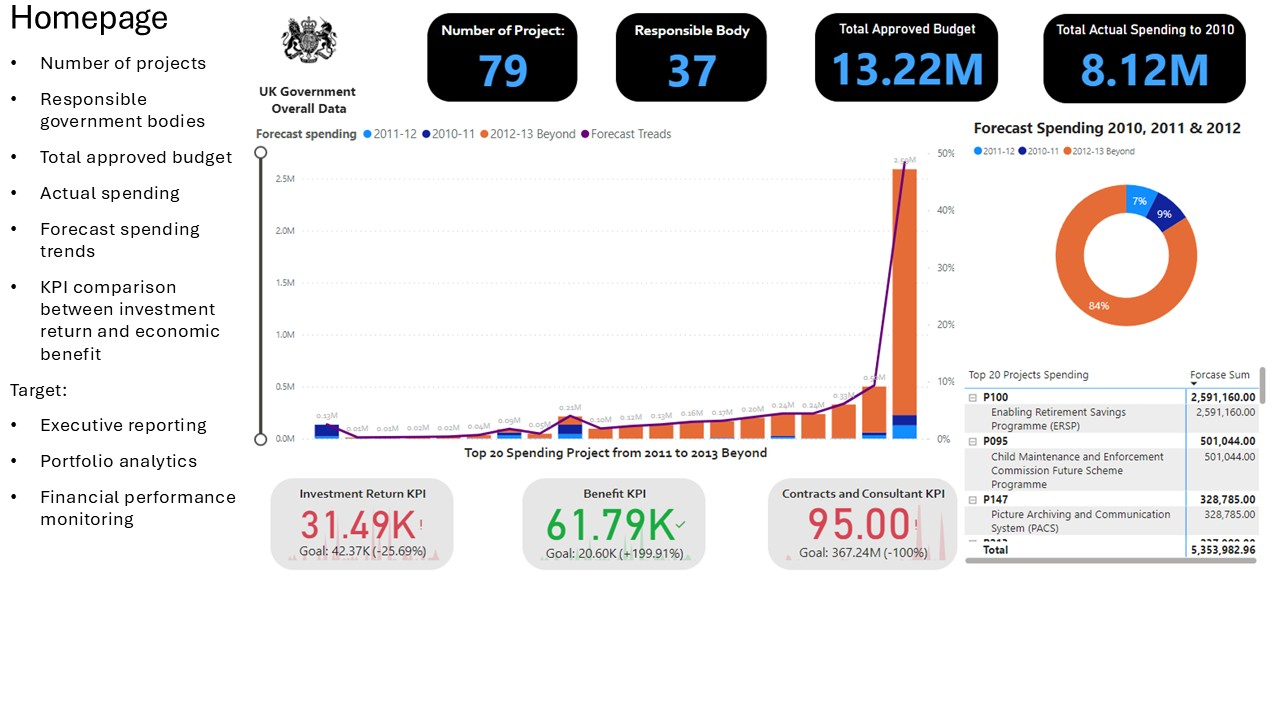

The page's visual inventory and layout, read from the dashboard file:
{"tool":"powerbi","page":{"name":"HomePage","canvas":[1280,720],"ordinal":0},"visuals":[{"type":"image","box":[32,0,80,96],"z":0,"group":"g1"},{"type":"card","title":"Number of Project:","fields":{"Values":["CountNonNull(Project Register.Project ID)"]},"box":[217.8,14.4,187.8,112.2],"z":0},{"type":"card","title":"Responsible Body","fields":{"Values":["Count(Project Register.Responsible Government Body)"]},"box":[451.1,14.4,188.9,112.2],"z":1000},{"type":"textbox","box":[0,96,144,64],"z":1000,"group":"g1"},{"type":"card","title":"Total Approved Budget","fields":{"Values":["Sum(Budget.Total Project Budget Approved £'000s)"]},"box":[698.9,14.4,228.9,112.2],"z":2000},{"type":"card","title":"Total Actual Spending to 2010","fields":{"Values":["Sum(Actualk Costs.Actual Spend to 2010 (£'000s))"]},"box":[981.2,15,252.5,112.5],"z":3000},{"type":"donutChart","title":"Forecast Spending 2010, 2011 & 2012","fields":{"Y":["Sum(Actualk Costs.Forecast Spend 2011-12)","Sum(Actualk Costs.Forecast Spend 2010-11)","Sum(Actualk Costs.Forecast Spend 2012-13 & Beyond)"]},"box":[890.9,143.7,389.1,293.3],"z":4000},{"type":"lineStackedColumnComboChart","title":"Forecast Spending","fields":{"Category":["Actualk Costs.Project ID","Actualk Costs.Project Name"],"Y":["Sum(Actualk Costs.Forecast Spend 2011-12)","Sum(Actualk Costs.Forecast Spend 2010-11)","Sum(Actualk Costs.Forecast Spend 2012-13 & Beyond)"],"Y2":["Actualk Costs.SumOfForecast"]},"box":[1.2,144,875.8,432.1],"z":5000},{"type":"kpi","title":"Investment Return KPI","fields":{"Indicator":["Sum(Business Case.Economic Benefits £'000)"],"Goal":["Sum(Business Case.Predicted Return on Investment)"],"TrendLine":["Actualk Costs.Project ID"]},"box":[23.2,591.2,228.8,116.2],"z":6000},{"type":"kpi","title":"Benefit KPI","fields":{"Indicator":["Business Case.Total Benefit"],"Goal":["Sum(Business Case.Predicted Costs £'000)"],"TrendLine":["Business Case.Project ID"]},"box":[335.7,591.2,228.8,116.2],"z":7000},{"type":"kpi","title":"Contracts and Consultant KPI","fields":{"Indicator":["Sum(Contracts.Estimated Contract Value (£'000))"],"Goal":["Sum(Actualk Costs.Client Side Consultancy Costs)"],"TrendLine":["Contracts.Contract ID"]},"box":[640,591.6,236.9,115.9],"z":8000},{"type":"pivotTable","title":"Forecast Spending","fields":{"Rows":["Actualk Costs.Project ID","Actualk Costs.Project Name"],"Values":["Actualk Costs.SumOfForecast"]},"box":[880,448,384,256],"z":9000},{"type":"group","id":"g1","title":"Group 1","box":[0,0,144,160],"z":10000}]}

Visuals, with their boxes in screenshot pixels (x1, y1, x2, y2), scaled from the page's 1280x720 canvas onto the 1280x720 screenshot:
image: rect(32, 0, 112, 96)
"Number of Project:" card: rect(218, 14, 406, 127)
"Responsible Body" card: rect(451, 14, 640, 127)
textbox: rect(0, 96, 144, 160)
"Total Approved Budget" card: rect(699, 14, 928, 127)
"Total Actual Spending to 2010" card: rect(981, 15, 1234, 128)
"Forecast Spending 2010, 2011 & 2012" donutChart: rect(891, 144, 1279, 437)
"Forecast Spending" lineStackedColumnComboChart: rect(1, 144, 877, 576)
"Investment Return KPI" kpi: rect(23, 591, 252, 707)
"Benefit KPI" kpi: rect(336, 591, 564, 707)
"Contracts and Consultant KPI" kpi: rect(640, 592, 877, 708)
"Forecast Spending" pivotTable: rect(880, 448, 1264, 704)
"Group 1" group: rect(0, 0, 144, 160)
